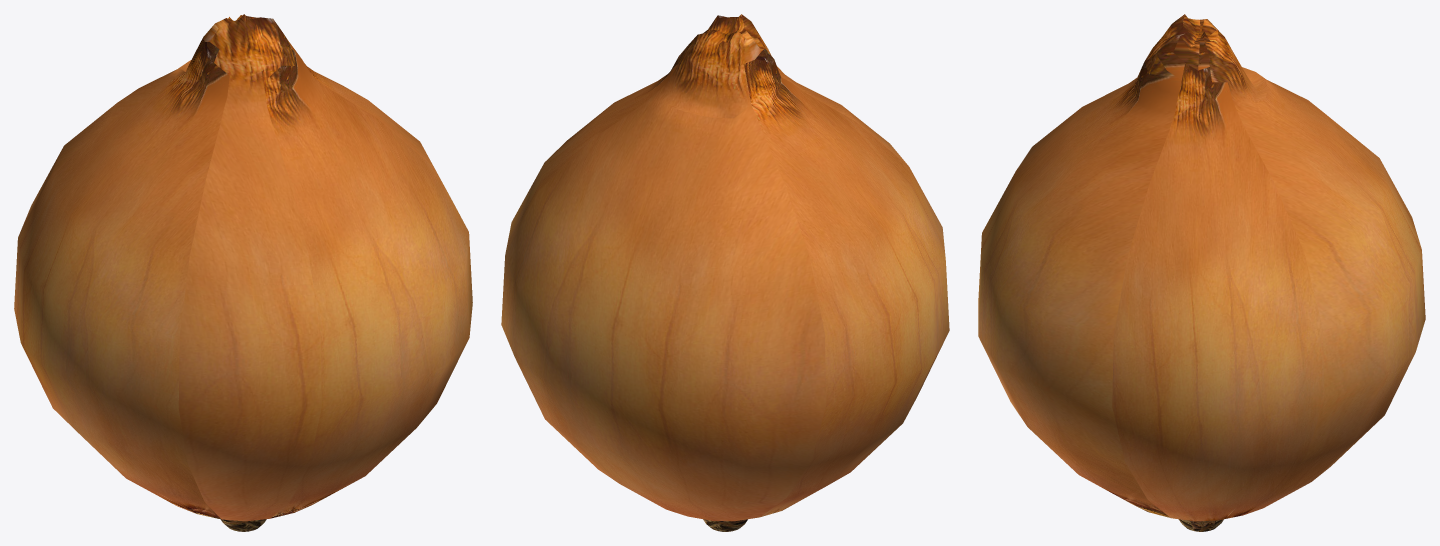
File: Onion.fbx
The picture shows the model from 3 angles, left to right: view 1: azimuth 30°, elevation 25°; view 2: azimuth 150°, elevation 25°; view 3: azimuth 270°, elevation 25°; orthographic projection. The views are drawn at different scales.
Parts seen in each view (by area): view 1: Sphere001; view 2: Sphere001; view 3: Sphere001.
Boxes of the visible parts, x1,y1,x2,y2 form: Sphere001: (14, 14, 472, 531); Sphere001: (501, 14, 949, 531); Sphere001: (978, 14, 1425, 531).
Bounding box in the file's own units: 2.66 × 3.25 × 2.59.
Materials: 1 (1 with a texture image).
